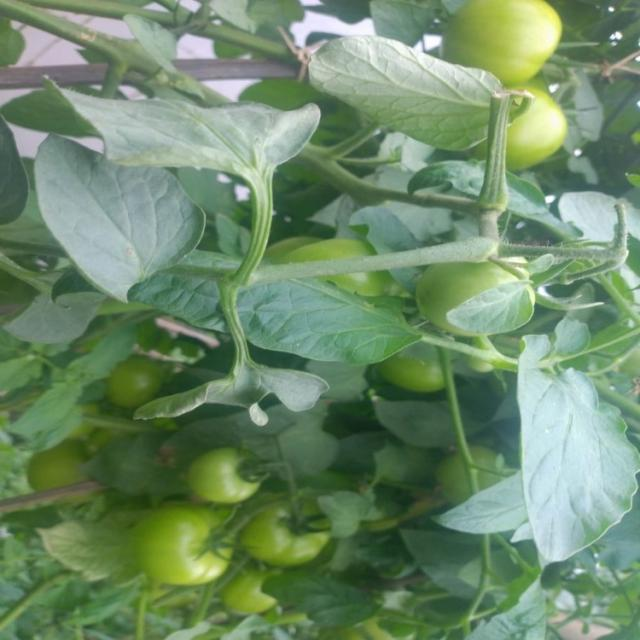tomato: (440, 1, 583, 92), (124, 493, 235, 589), (418, 249, 546, 324), (254, 495, 345, 574), (496, 82, 576, 166), (21, 444, 100, 500), (192, 449, 254, 514), (382, 357, 457, 405), (105, 355, 174, 403), (215, 570, 283, 618)
